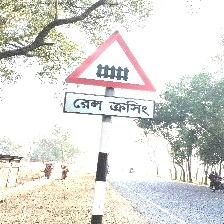Rail-crossing: (64, 31, 158, 120)
